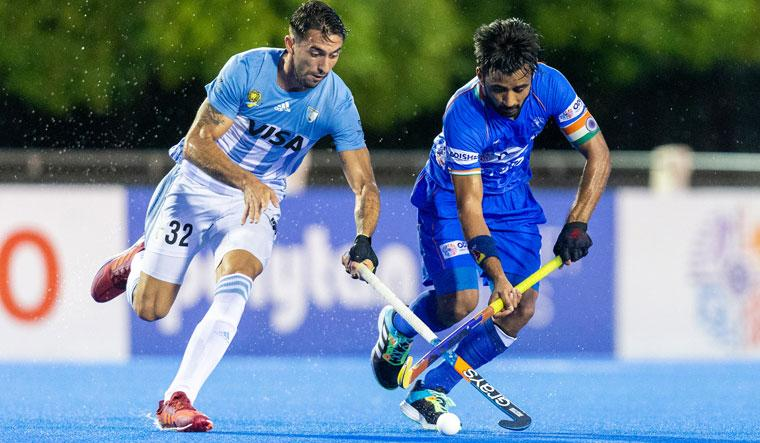ball: (433, 411, 468, 438)
